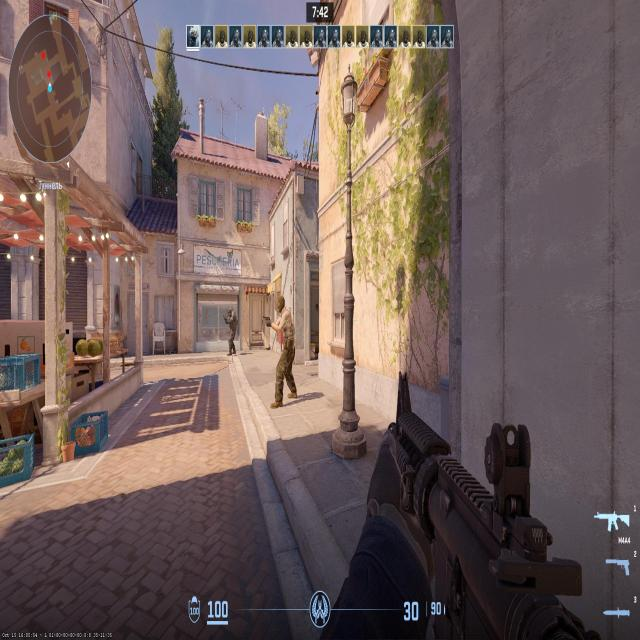CT: (232, 310, 236, 350)
CT_heat: (231, 308, 234, 320)
T: (280, 296, 296, 394)
T_heat: (281, 302, 287, 321)
